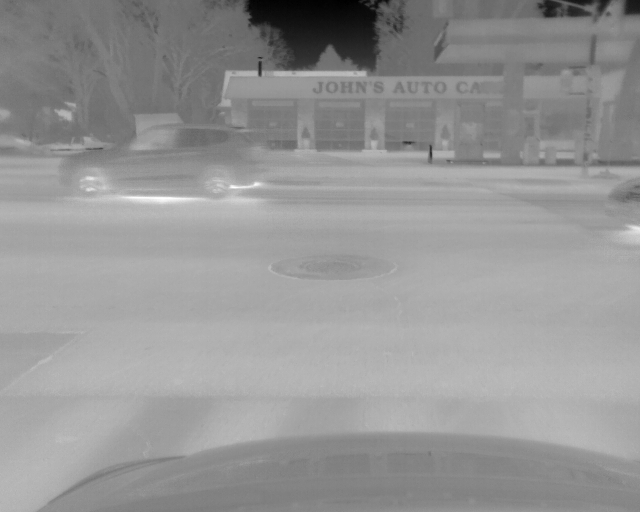car: (59, 122, 257, 198), (602, 176, 640, 232)
